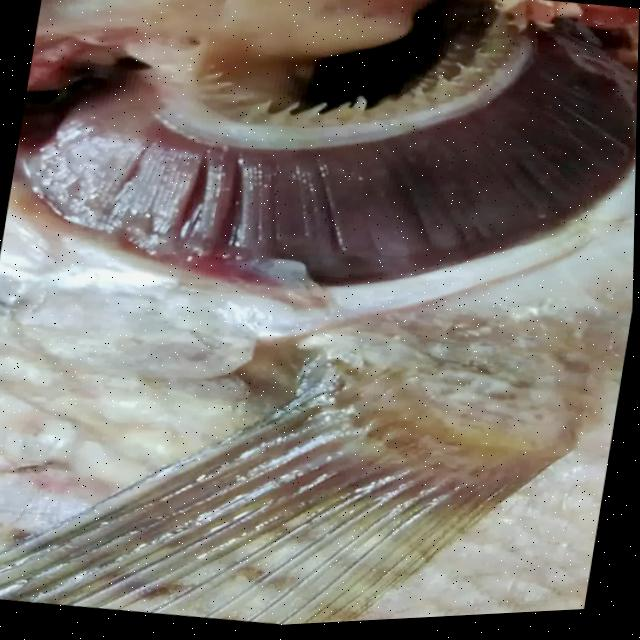Non-Fresh: (22, 0, 640, 370)
